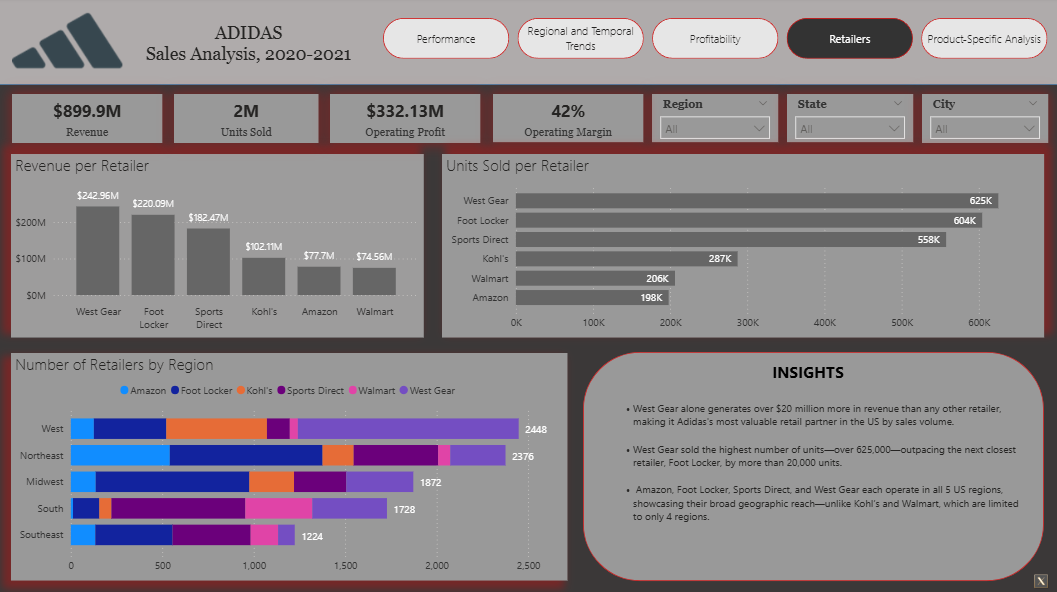

What the dashboard file says about the page in this screenshot:
{"tool":"powerbi","page":{"name":"Retailers","canvas":[1280,720],"ordinal":3},"visuals":[{"type":"pageNavigator","box":[464.4,25.4,800.3,49.5],"z":0},{"type":"slicer","fields":{"Values":["Data.Region"]},"box":[788,116.5,151.8,58.3],"z":0,"group":"g1"},{"type":"slicer","fields":{"Values":["Data.State"]},"box":[950.4,116.5,151.8,58.3],"z":1000,"group":"g1"},{"type":"shape","box":[705.1,427.7,554.9,275.9],"z":1000,"group":"g2"},{"type":"textbox","box":[168.6,25.3,268.5,61.4],"z":2000},{"type":"slicer","fields":{"Values":["Data.City"]},"box":[1113.4,116.5,151.9,59],"z":2000,"group":"g1"},{"type":"card","fields":{"Values":["Sum(Data.Total Sales)"]},"box":[17.8,116.7,181.1,58.9],"z":3000,"group":"g1"},{"type":"clusteredColumnChart","title":"Revenue per Retailer","fields":{"Category":["Data.Retailer"],"Y":["Sum(Data.Total Sales)"]},"box":[17.4,188.7,496.5,220.8],"z":3000},{"type":"group","id":"g1","title":"Group 2","box":[17.8,116.5,1247.5,59.1],"z":4000},{"type":"card","fields":{"Values":["Sum(Data.Units Sold)"]},"box":[213.4,116.7,174.4,58.9],"z":4000,"group":"g1"},{"type":"card","fields":{"Values":["Sum(Data.Operating Profit)"]},"box":[401.1,116.7,181.1,58.9],"z":5000,"group":"g1"},{"type":"group","id":"g2","title":"Group 3","box":[705.1,427.7,554.9,275.9],"z":5000},{"type":"textbox","box":[890.9,434.3,171.3,42.8],"z":5000,"group":"g2"},{"type":"card","fields":{"Values":["Avg(Data.Operating Margin)"]},"box":[596.3,116.5,180.9,58.3],"z":6000,"group":"g1"},{"type":"clusteredBarChart","title":"Units Sold per Retailer","fields":{"Y":["Sum(Data.Units Sold)"],"Category":["Data.Retailer"]},"box":[535.3,188.7,725.4,220.8],"z":6000},{"type":"barChart","title":"Number of Retailers by Region","fields":{"Category":["Data.Region"],"Y":["CountNonNull(Data.Retailer)"],"Series":["Data.Retailer"]},"box":[16.9,429.2,669.9,274.4],"z":7000},{"type":"image","box":[1233.9,687.9,45.5,32.1],"z":7001},{"type":"textbox","box":[742.7,482.2,497,168.7],"z":11000,"group":"g2"}]}

Visuals, with their boxes in screenshot pixels (x1, y1, x2, y2), scaled from the page's 1280x720 canvas onto the 1057x592 screenshot:
pageNavigator: BBox(383, 21, 1044, 62)
slicer - Data.Region: BBox(651, 96, 776, 144)
slicer - Data.State: BBox(785, 96, 910, 144)
shape: BBox(582, 352, 1040, 579)
textbox: BBox(139, 21, 361, 71)
slicer - Data.City: BBox(919, 96, 1045, 144)
card - Sum(Data.Total Sales): BBox(15, 96, 164, 144)
"Revenue per Retailer" clusteredColumnChart: BBox(14, 155, 424, 337)
"Group 2" group: BBox(15, 96, 1045, 144)
card - Sum(Data.Units Sold): BBox(176, 96, 320, 144)
card - Sum(Data.Operating Profit): BBox(331, 96, 481, 144)
"Group 3" group: BBox(582, 352, 1040, 579)
textbox: BBox(736, 357, 877, 392)
card - Avg(Data.Operating Margin): BBox(492, 96, 642, 144)
"Units Sold per Retailer" clusteredBarChart: BBox(442, 155, 1041, 337)
"Number of Retailers by Region" barChart: BBox(14, 353, 567, 579)
image: BBox(1019, 566, 1056, 591)
textbox: BBox(613, 396, 1024, 535)
